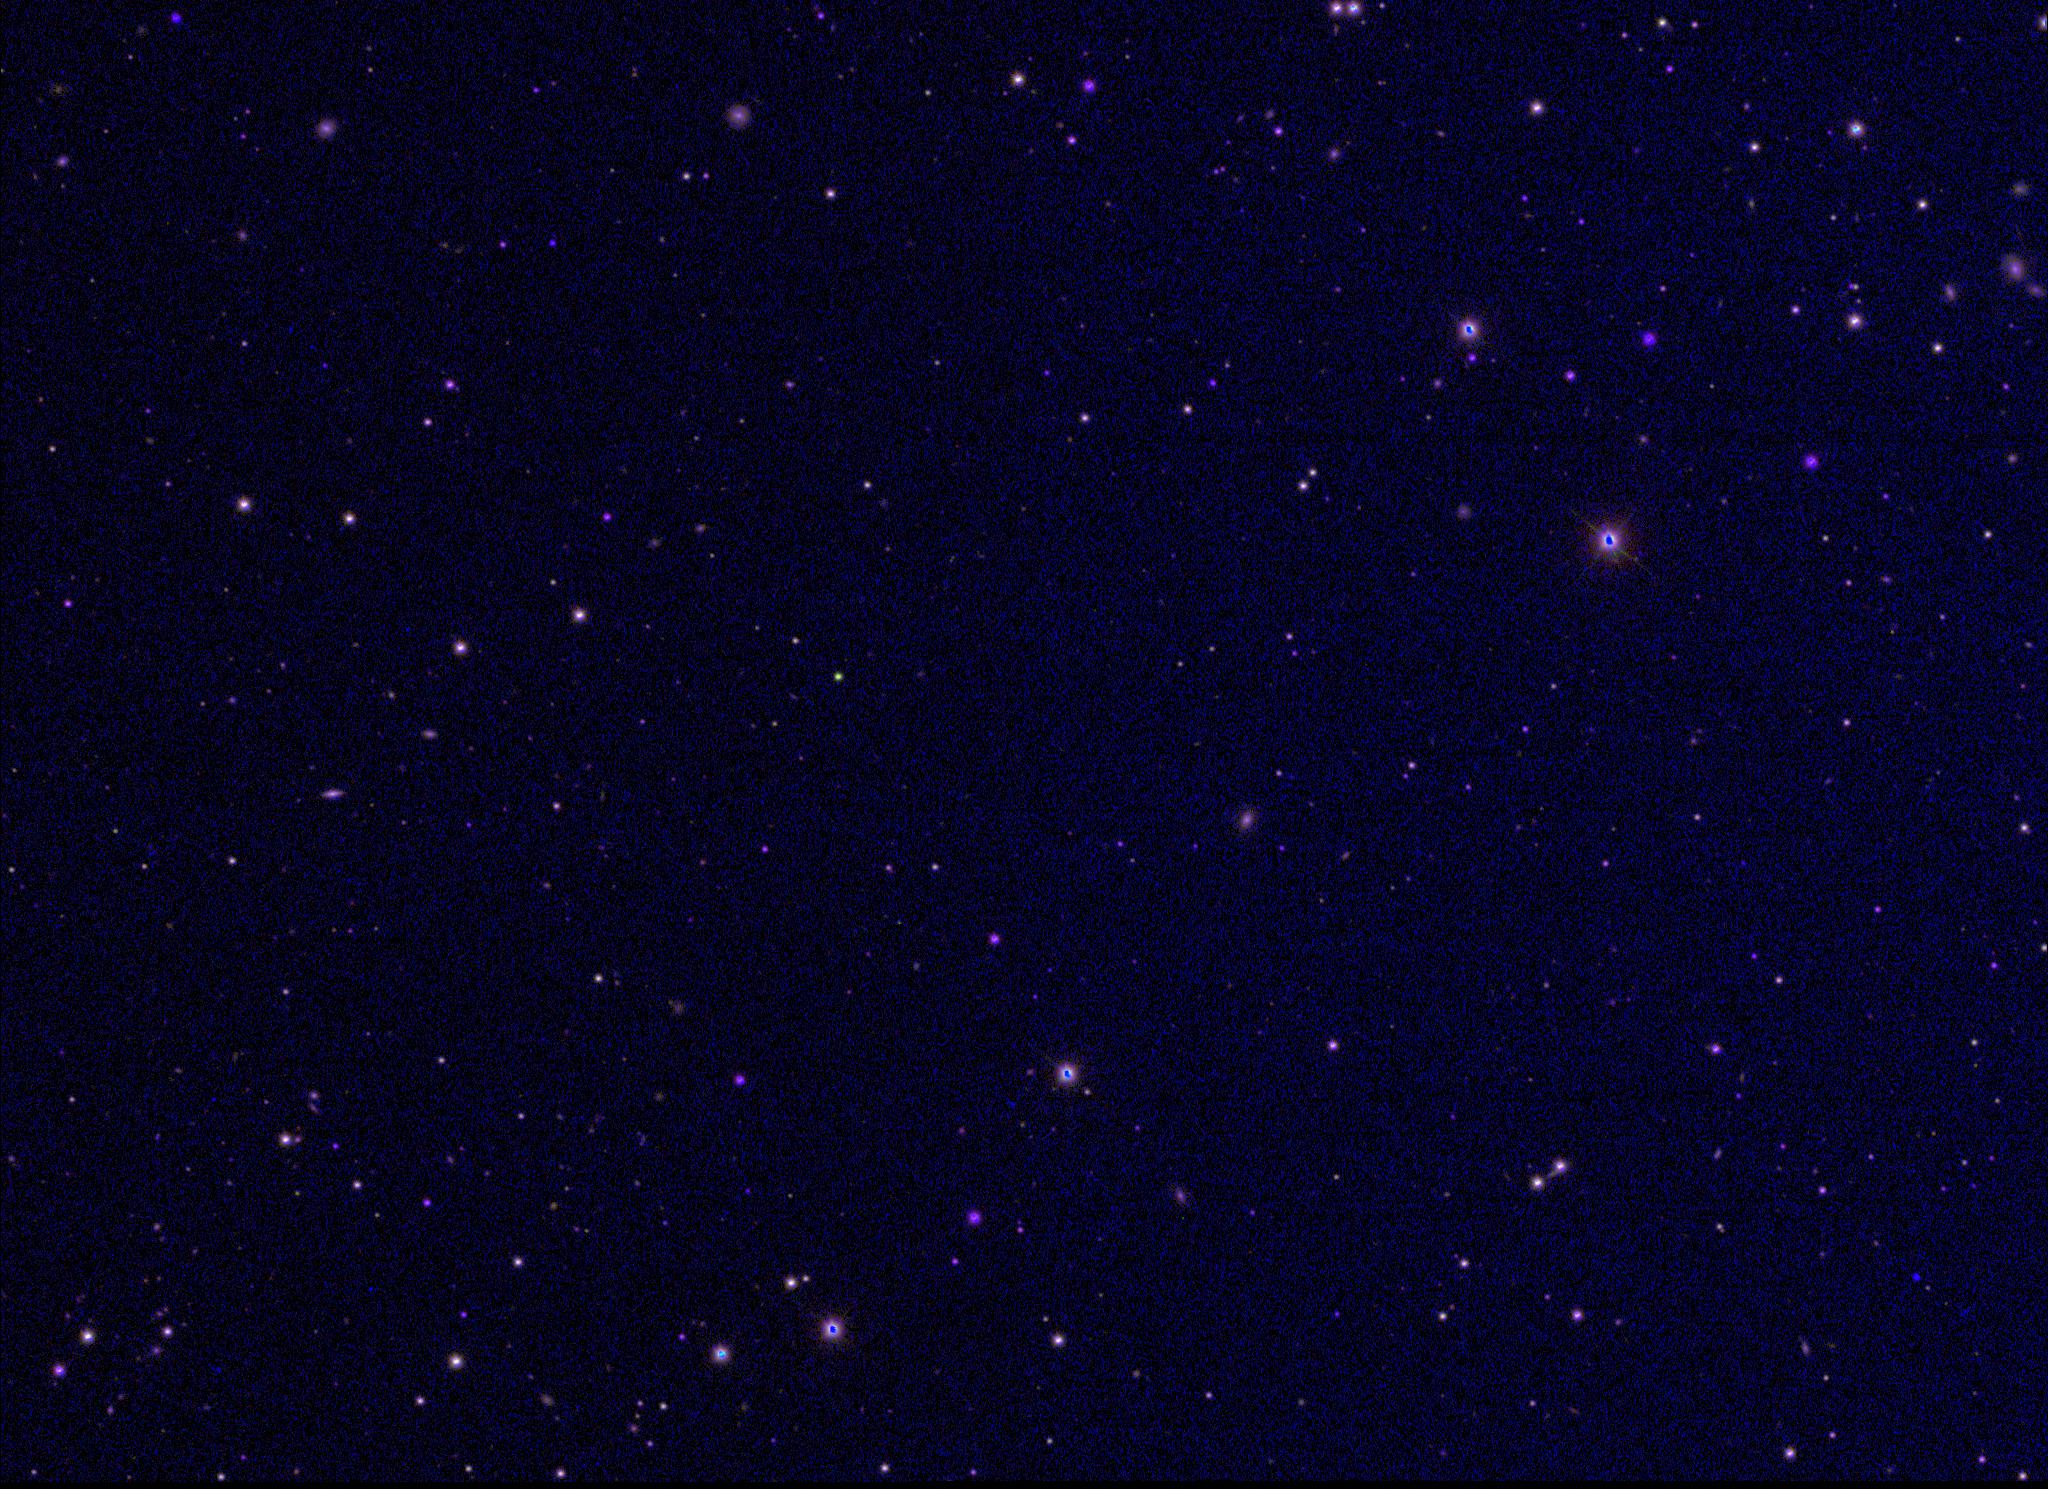L: (1910, 1269, 1924, 1284)
